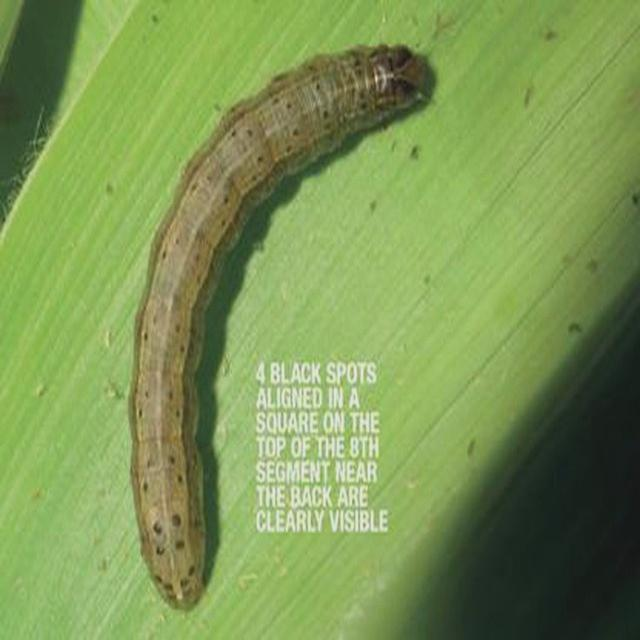gusano_cogollero: (128, 44, 430, 618)
